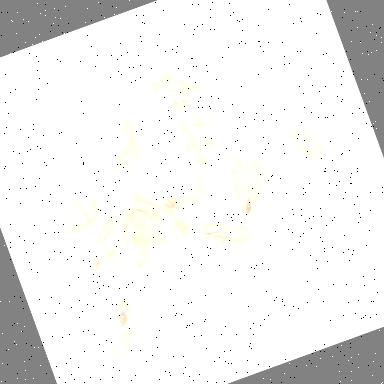abw: (66, 203, 160, 305), (107, 169, 199, 264), (70, 288, 159, 384), (204, 128, 286, 229), (161, 82, 238, 184), (142, 139, 226, 224), (138, 48, 224, 128), (275, 102, 353, 185), (88, 110, 158, 196), (30, 188, 112, 260), (106, 186, 160, 278), (191, 201, 260, 267)
